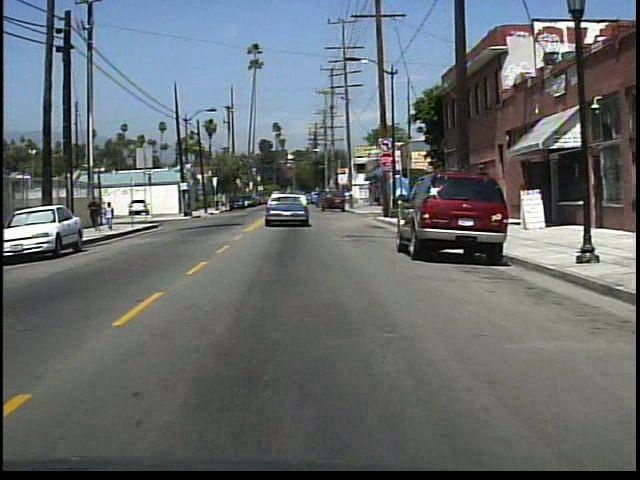person: (89, 195, 105, 232), (105, 200, 119, 232)
